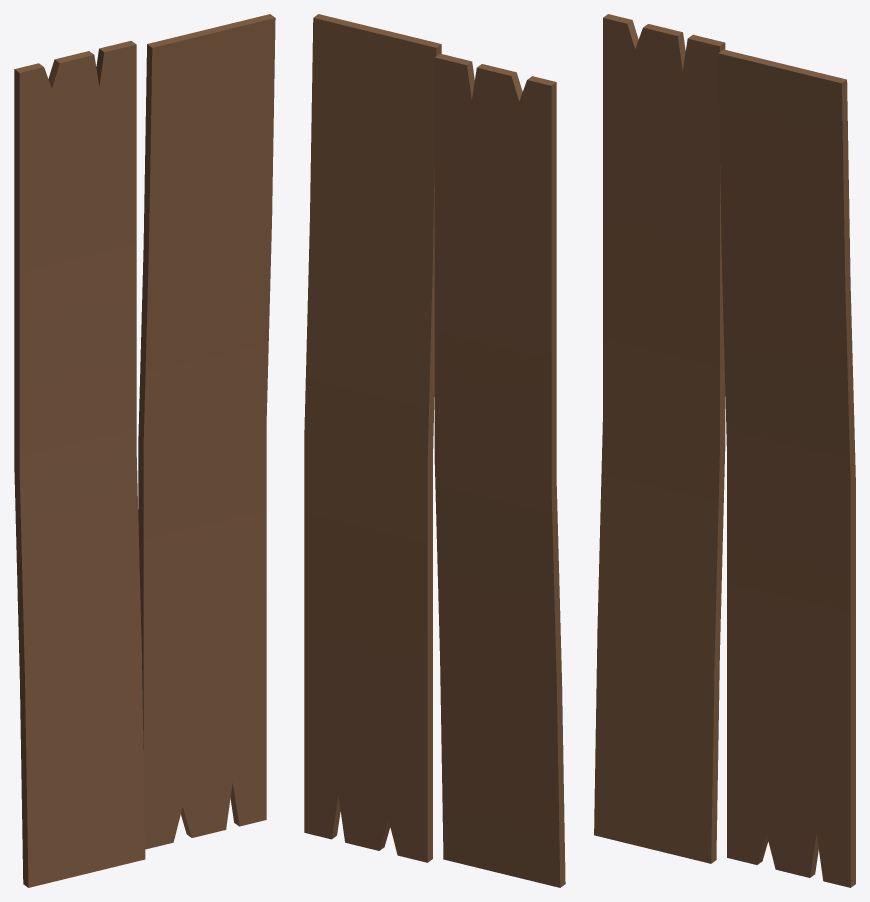
File: bois.fbx
3 views of the same model, side by side, from view 1: azimuth 30°, elevation 25°; view 2: azimuth 150°, elevation 25°; view 3: azimuth 330°, elevation 25° (orthographic).
Parts seen in each view (by area): view 1: planche_2, planche_1; view 2: planche_2, planche_1; view 3: planche_2, planche_1.
Part boxes in pixels (<box>): planche_2: <box>138,14,275,849</box>; planche_1: <box>14,41,145,887</box>; planche_2: <box>304,14,441,862</box>; planche_1: <box>434,53,565,887</box>; planche_2: <box>718,49,855,887</box>; planche_1: <box>594,14,725,863</box>.
Size of the model in its own units: 1.47 by 4.6 by 0.1447.
